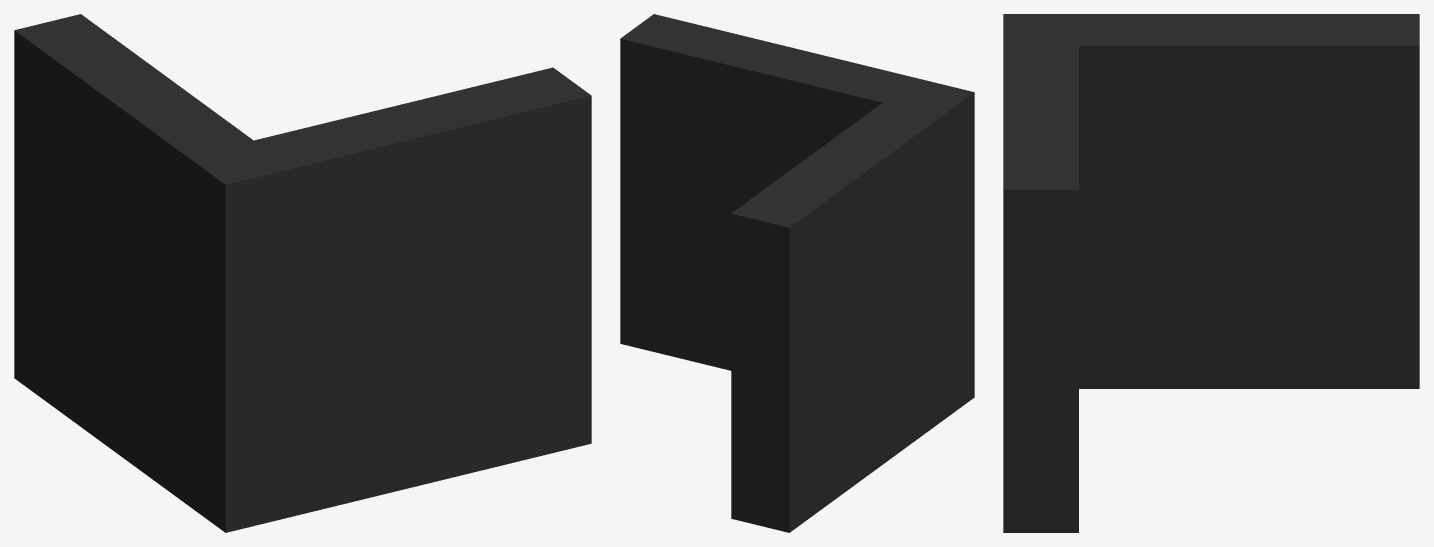
Rendered from UpperWall_Curved 1.fbx.
The picture shows the model from 3 angles, left to right: view 1: azimuth 30°, elevation 25°; view 2: azimuth 150°, elevation 25°; view 3: azimuth 270°, elevation 25°; orthographic projection. The views are drawn at different scales.
Parts seen in each view (by area): view 1: UpperWall_Curved.001; view 2: UpperWall_Curved.001; view 3: UpperWall_Curved.001.
Boxes of the visible parts, box(x1,y1,x2,y2) form: UpperWall_Curved.001: box(14, 14, 591, 532); UpperWall_Curved.001: box(620, 14, 974, 532); UpperWall_Curved.001: box(1003, 14, 1419, 532).
Size of the model in its own units: 110 by 100 by 110.
